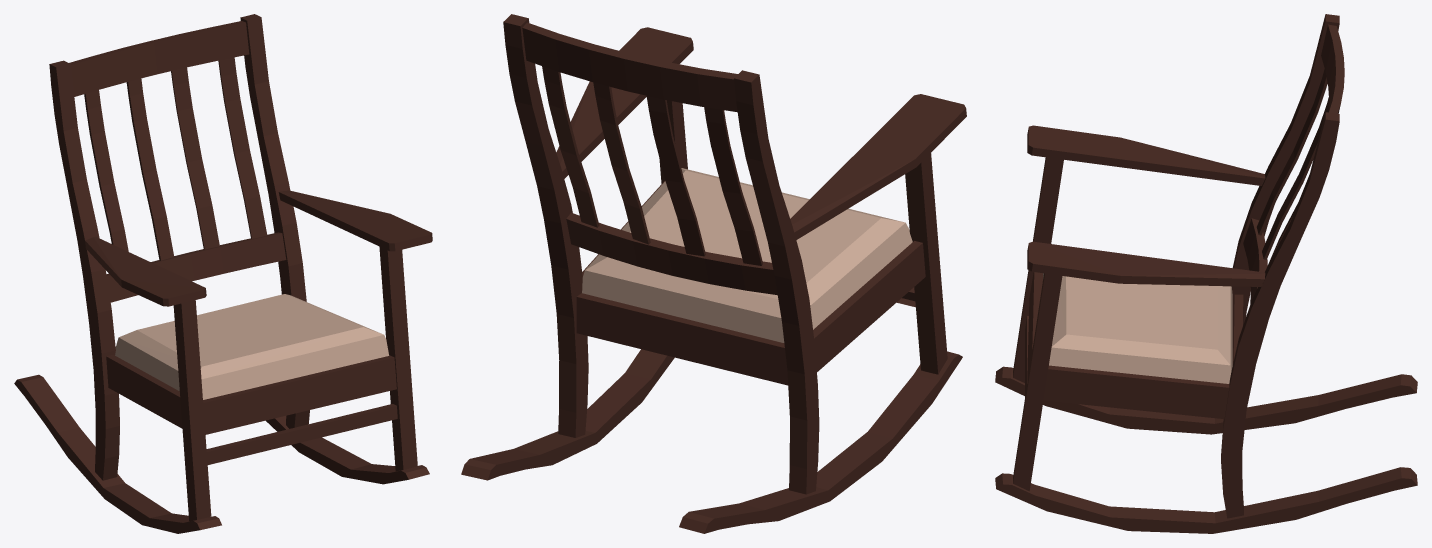
File: Rocking Chair.fbx
The picture shows the model from 3 angles, left to right: view 1: azimuth 30°, elevation 25°; view 2: azimuth 150°, elevation 25°; view 3: azimuth 270°, elevation 25°; orthographic projection. The views are drawn at different scales.
Visible parts, largest first — view 1: Rocking Chair; view 2: Rocking Chair; view 3: Rocking Chair.
Boxes of the visible parts, x1,y1,x2,y2 form: Rocking Chair: (14,14,432,533); Rocking Chair: (461,14,966,533); Rocking Chair: (995,14,1417,533).
Size of the model in its own units: 99.22 by 138 by 128.
